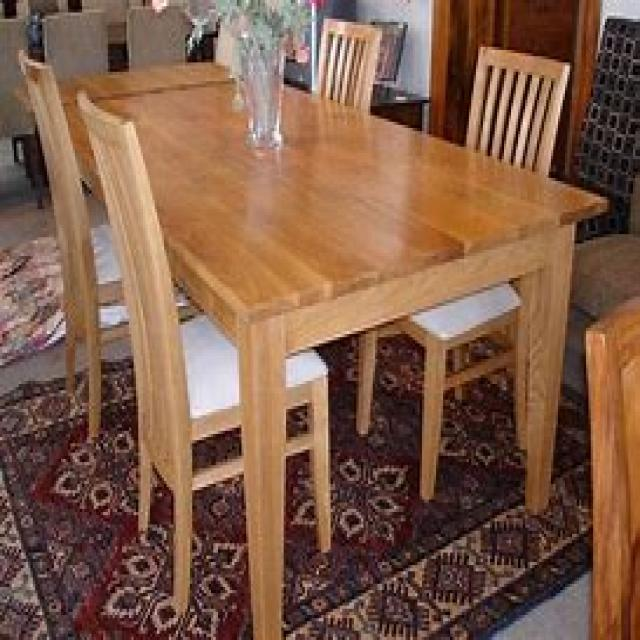chair: (75, 84, 331, 615), (354, 41, 570, 500), (17, 47, 200, 440)
table: (24, 56, 607, 637)
